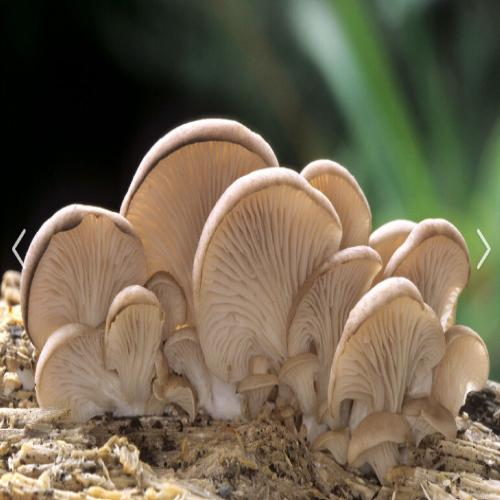Oyster Mushroom: (150, 147, 359, 401), (85, 91, 287, 326), (292, 264, 468, 447), (0, 187, 164, 352), (261, 228, 386, 404), (374, 207, 498, 332), (27, 318, 131, 427), (94, 281, 169, 416), (298, 148, 383, 257), (427, 323, 495, 420), (349, 206, 417, 288)
